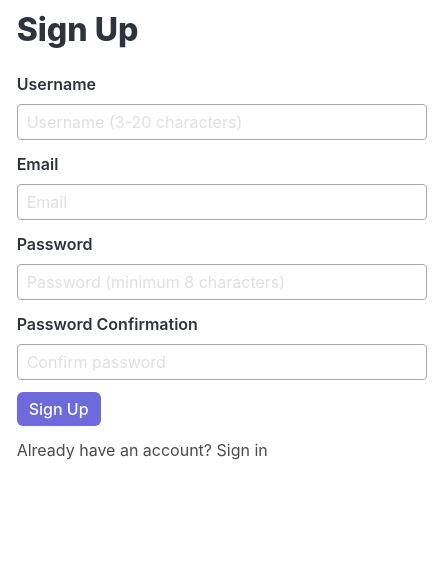
Scenario: SignupPage › shows errors on failed sign-up
The image size is (444, 571).
In the field with placeholder "Username (3-20 characters)": (222, 122) [17,104,427,140], type "testuser"
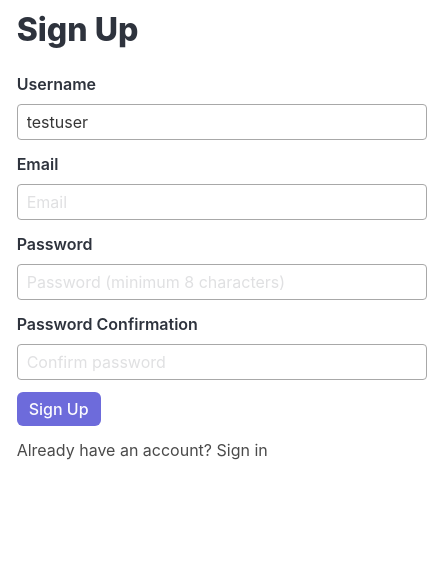
In the field with placeholder "Email": (222, 202) [17,184,427,220], type "taken@example.com"
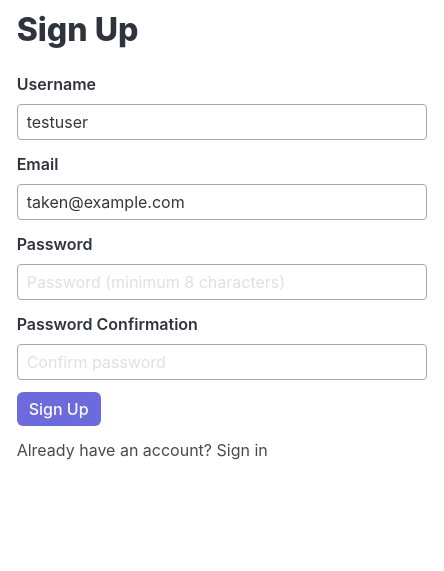
In the password field with placeholder "Password (minimum 8 characters)": (222, 282) [17,264,427,300], type "password123"
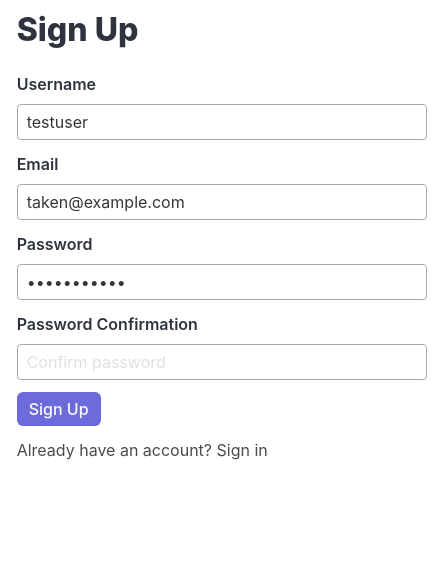
In the password field with placeholder "Confirm password": (222, 362) [17,344,427,380], type "password123"
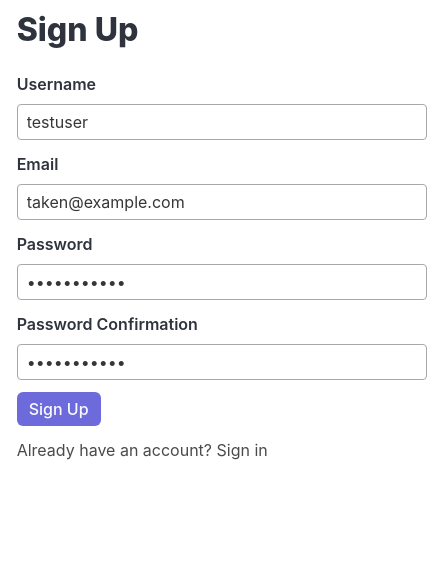
Submit the form
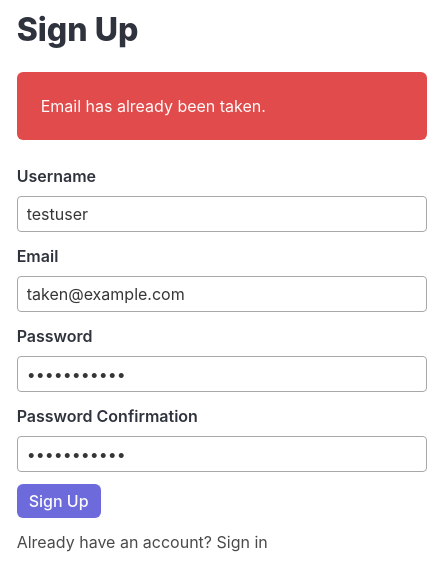
Result: the element with class "is-danger" reads "Email has already been taken." at [41,96,266,116]
